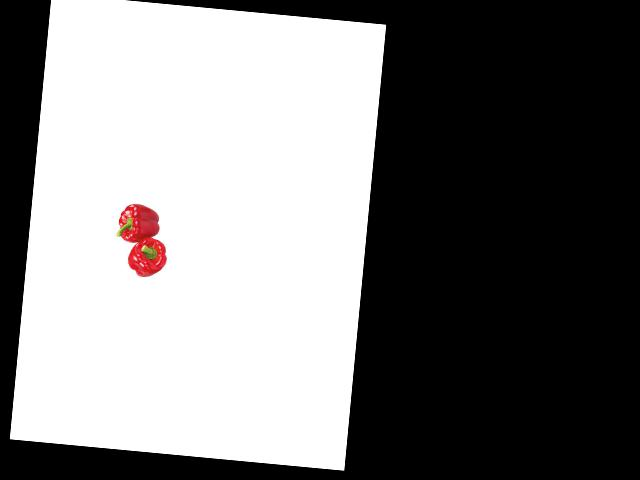bell_pepper: (114, 201, 164, 246)
